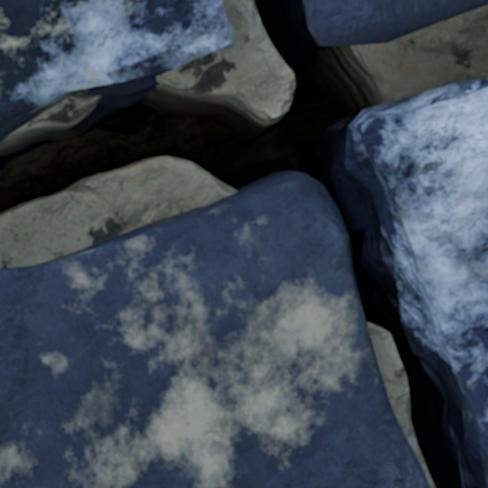brick: (0, 174, 429, 487), (346, 79, 487, 487), (0, 0, 233, 139), (304, 0, 487, 44)
crack: (0, 0, 486, 487)
